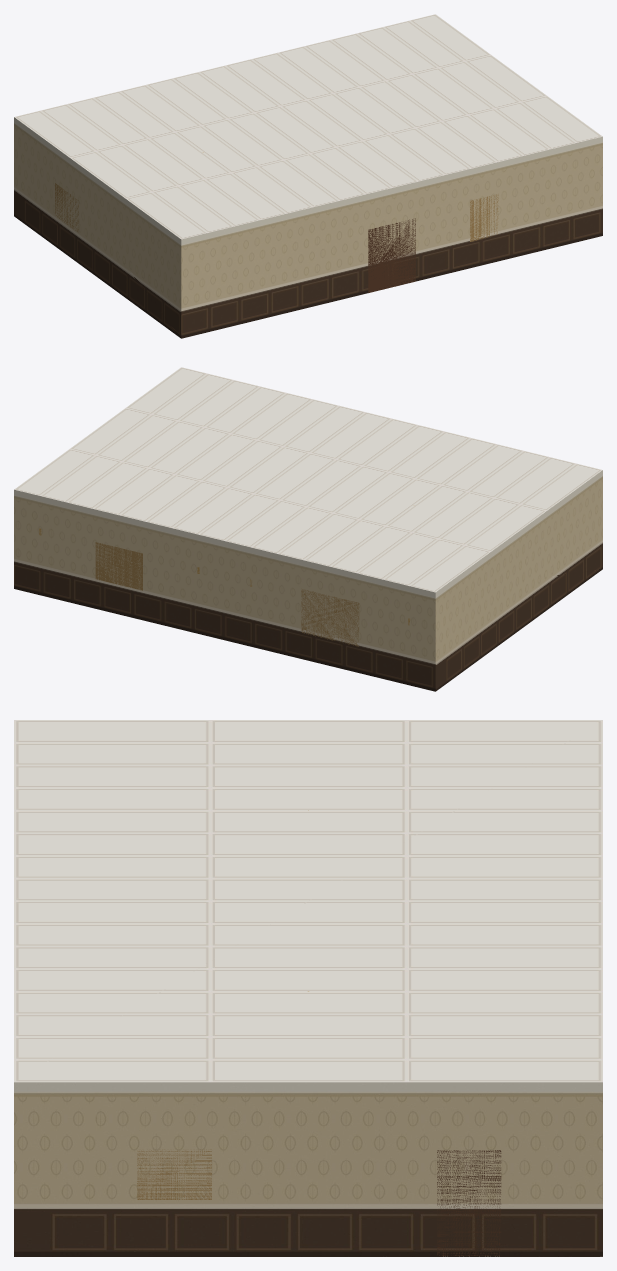
Rendered from salon-escaneado.glb.
3 views of the same model, one above another, from view 1: azimuth 30°, elevation 25°; view 2: azimuth 150°, elevation 25°; view 3: azimuth 270°, elevation 25° (orthographic). The views are drawn at different scales.
Parts seen in each view (by area): view 1: techo, pared_sur, pared_oeste, puerta_doble, marco_espejo, marco_marina; view 2: techo, pared_norte, pared_oeste, marco_paisaje, marco_abstracto; view 3: techo, pared_este, puerta_lateral, marco_bodegon.
Boxes of the visible parts, bbox=[...] form: techo: bbox=[14, 14, 602, 239]; pared_sur: bbox=[181, 136, 602, 338]; pared_oeste: bbox=[14, 117, 181, 338]; puerta_doble: bbox=[368, 218, 415, 292]; marco_espejo: bbox=[470, 194, 498, 241]; marco_marina: bbox=[55, 183, 79, 232]; techo: bbox=[14, 367, 602, 592]; pared_norte: bbox=[14, 489, 435, 691]; pared_oeste: bbox=[435, 470, 602, 691]; marco_paisaje: bbox=[301, 589, 359, 646]; marco_abstracto: bbox=[95, 542, 142, 590]; techo: bbox=[14, 720, 602, 1082]; pared_este: bbox=[14, 1082, 602, 1256]; puerta_lateral: bbox=[437, 1150, 501, 1256]; marco_bodegon: bbox=[137, 1149, 211, 1199].
Bounding box in the file's own units: 16 × 3.6 × 11.
18 materials, 18 textured.
